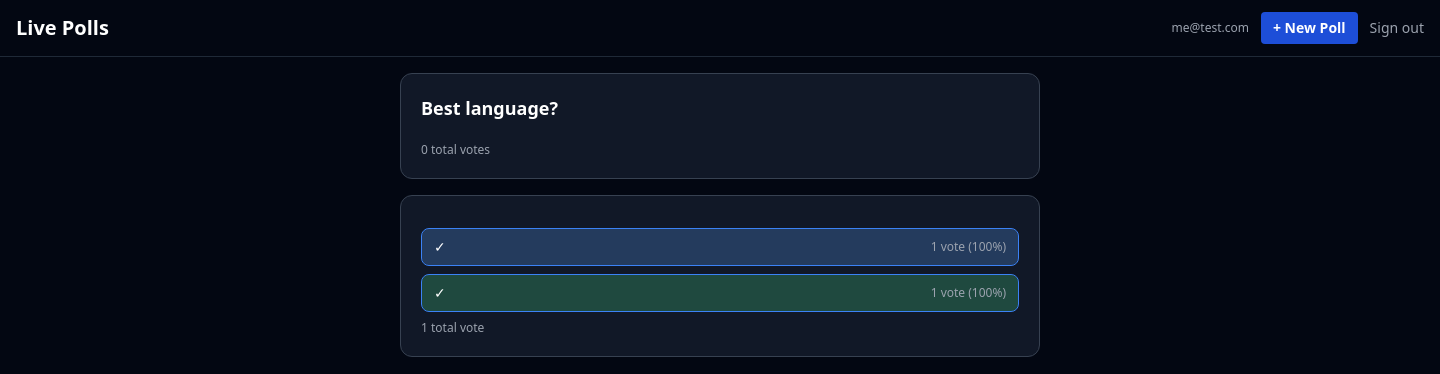
Test case: App handleRealtime › sign out clears all poll state and renders the auth form
The width and height of the screenshot is (1440, 374).
Check: the heading "Best language?" is shown, box [421, 94, 558, 122]
# Click the "Sign out" button.
Click the button "Sign out".
click(1397, 28)  # box [1370, 18, 1424, 38]
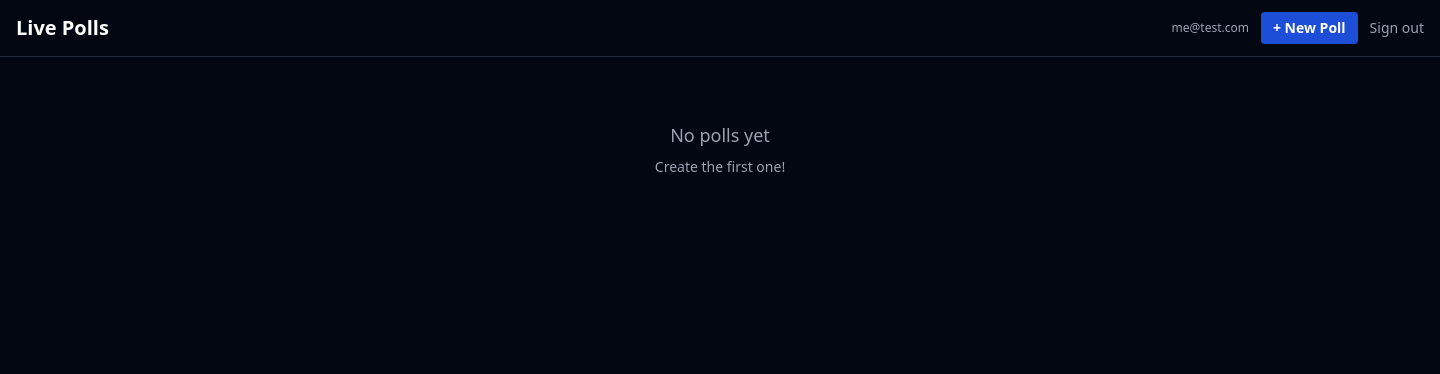
Check: the heading "Best language?" is gone
